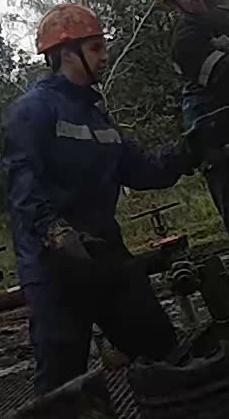gloves: (38, 220, 112, 278), (172, 104, 228, 174)
helmet: (33, 0, 111, 53)
vest: (1, 85, 132, 279), (171, 23, 228, 206)
